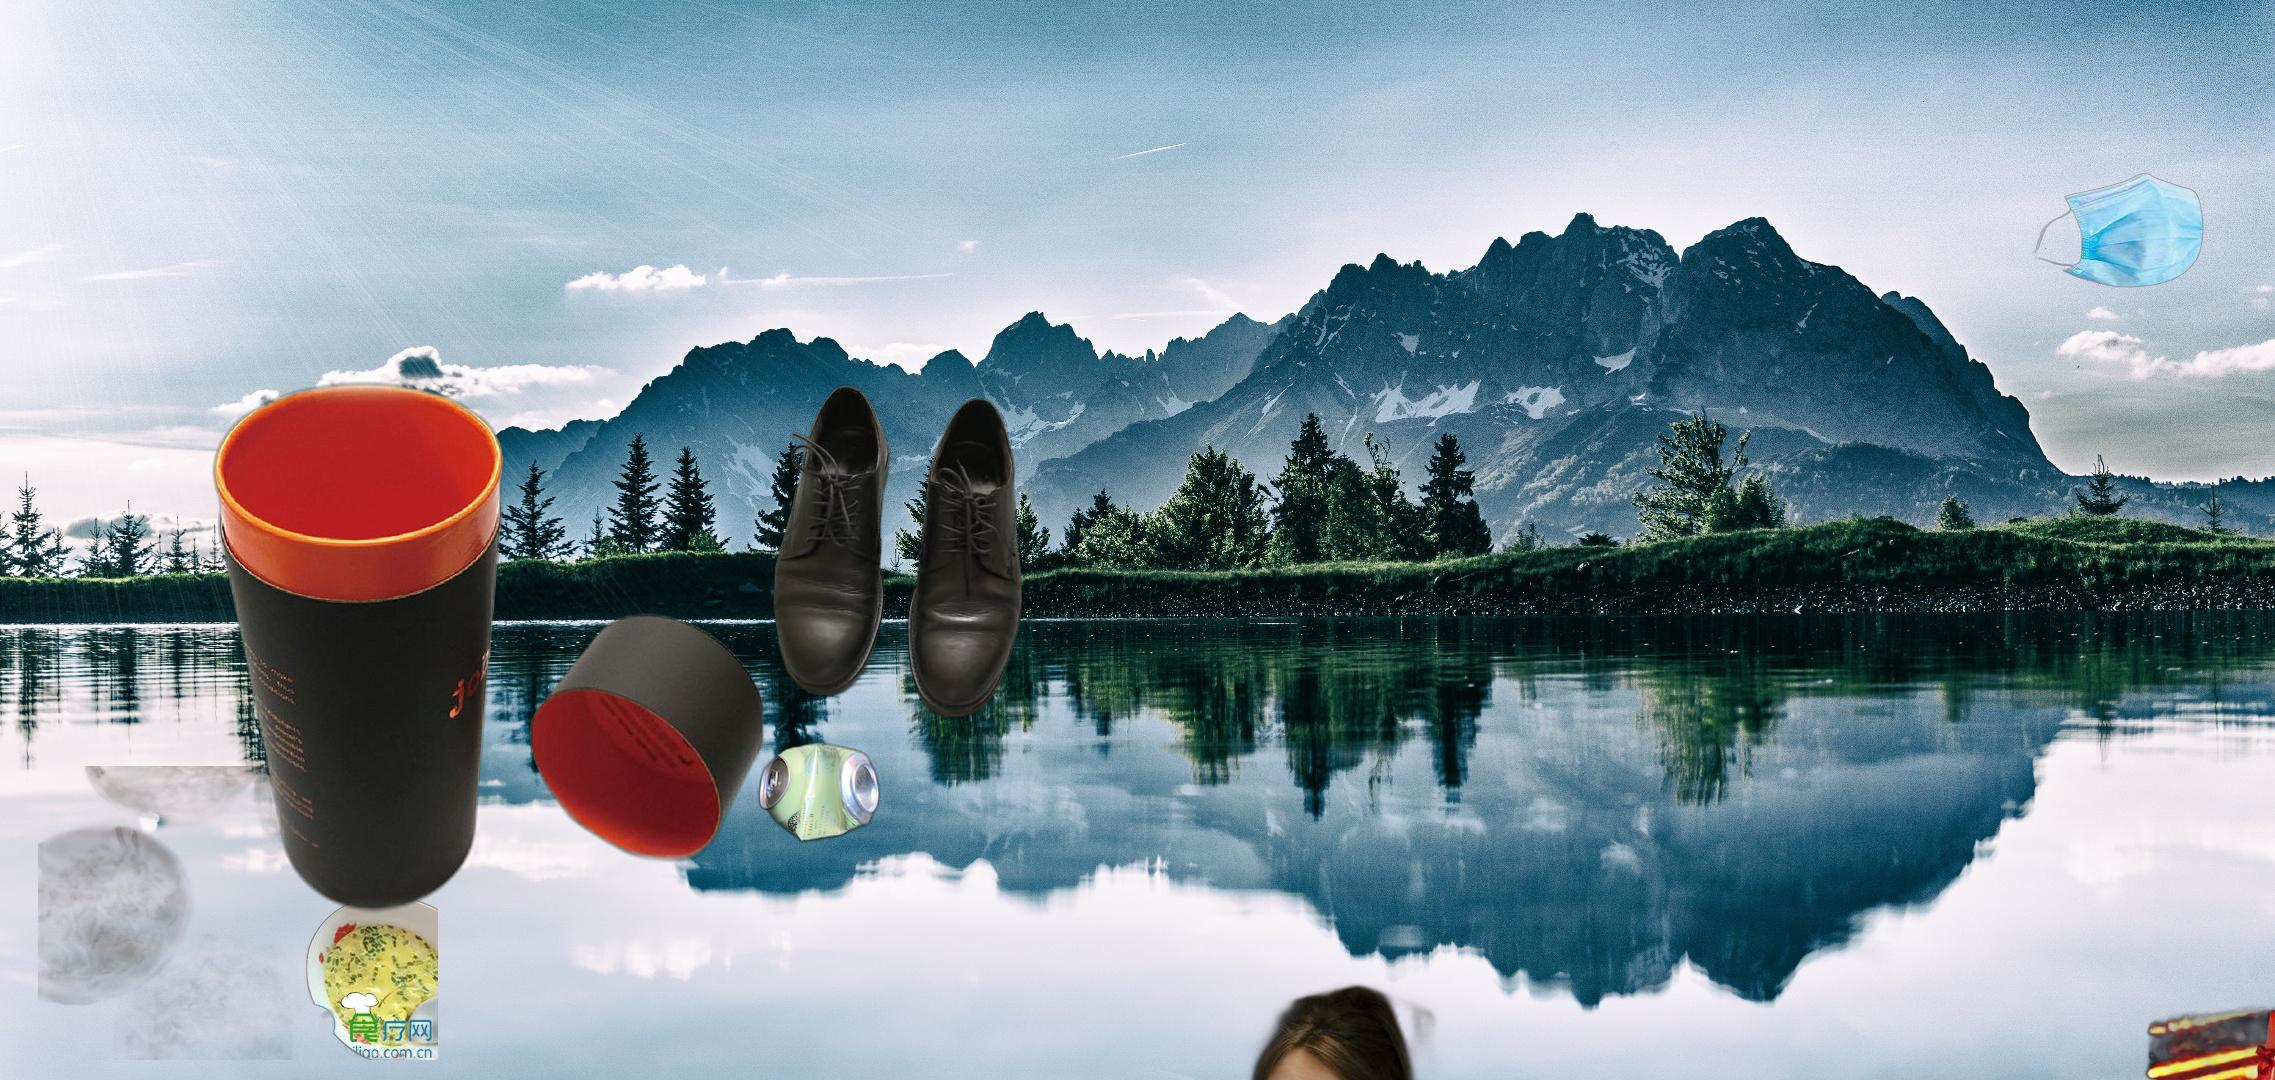biological: (38, 766, 438, 1060)
metal-cans: (754, 737, 885, 846)
paper-bag: (2117, 991, 2275, 1080)
shoes: (770, 382, 1024, 721)
trash: (2031, 170, 2205, 290)
trashbox-cardboard: (209, 376, 768, 917), (947, 978, 1600, 1080)
